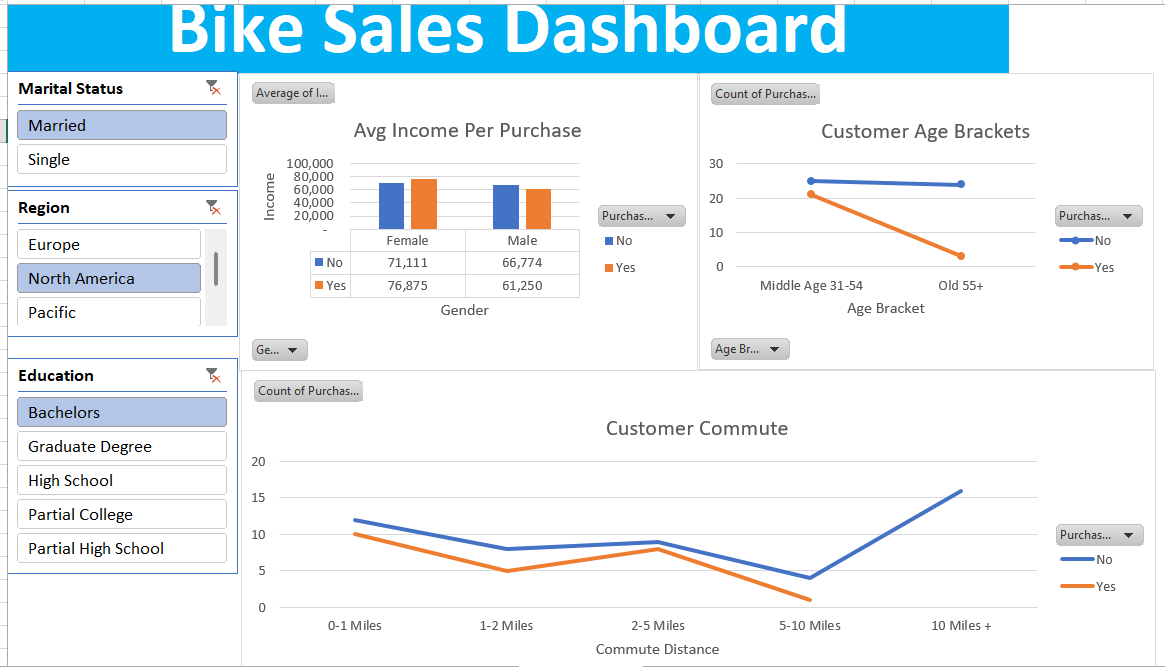

The dashboard page shown, as its layout file describes it:
{"tool":"tableau","page":{"name":"Dashboard 1","canvas":[1000,1000],"units":"permille","ordinal":0},"visuals":[{"type":"worksheet","title":"Sheet 4","mark":"Automatic","rows":["price"],"cols":["bedrooms"],"box":[5.1,11.6,777.1,520.2]},{"type":"worksheet","title":"Sheet 5","mark":"Automatic","rows":["bedrooms"],"box":[782.2,11.6,212.7,520.2]},{"type":"worksheet","title":"Sheet 2","mark":"Multipolygon","box":[5.1,531.8,167.6,456.7]},{"type":"worksheet","title":"Sheet 1","mark":"Automatic","rows":["price"],"cols":["zipcode"],"box":[172.7,531.8,351.9,456.7]},{"type":"legend","title":"Sheet 1","param":"[federated.176ccuw01pp4m91bhd3cu00nv47k].[none:zipcode:ok]","box":[524.6,531.8,91.3,456.7]},{"type":"worksheet","title":"Sheet 3","mark":"Automatic","rows":["price (Calendar)"],"cols":["date"],"box":[615.9,531.8,379.1,456.7]}]}

Visuals, with their boxes on the dashboard's canvas, which has no fixed pixel size, in thousandths of its width and height (x1, y1, x2, y2). These are canvas units, not pixel positions in the 1165x667 screenshot, which may show the page scaled, cropped or inside an application window:
"Sheet 4" worksheet: Rect(5, 12, 782, 532)
"Sheet 5" worksheet: Rect(782, 12, 995, 532)
"Sheet 2" worksheet (Multipolygon marks): Rect(5, 532, 173, 988)
"Sheet 1" worksheet: Rect(173, 532, 525, 988)
"Sheet 1" legend: Rect(525, 532, 616, 988)
"Sheet 3" worksheet: Rect(616, 532, 995, 988)
